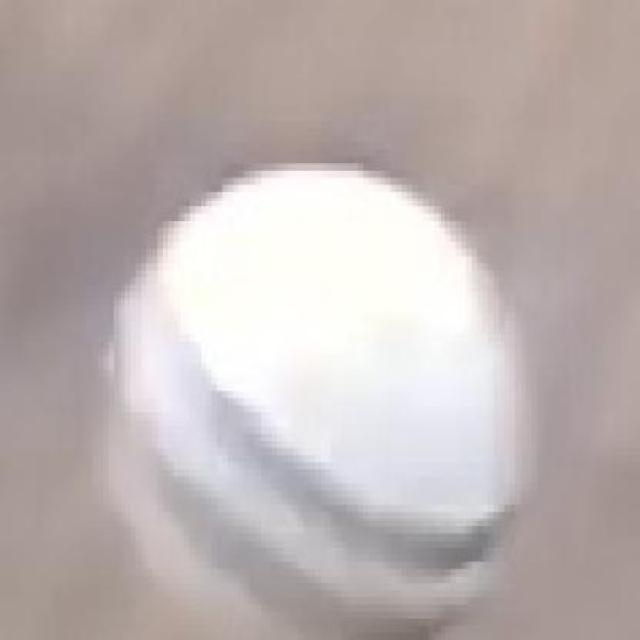Cricket ball: (92, 154, 552, 640)
